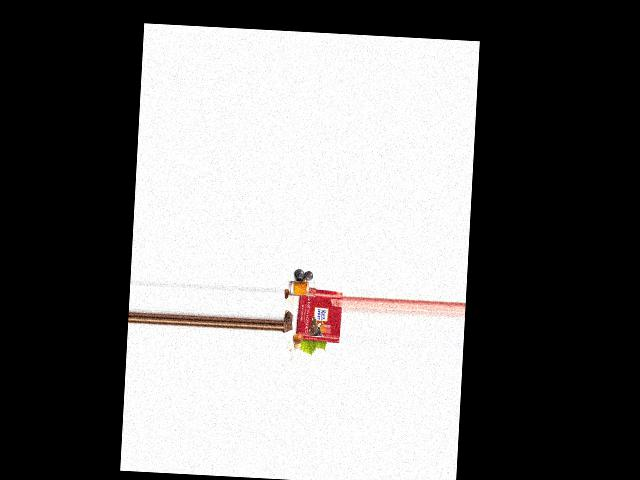chocolate: (295, 289, 342, 344)
